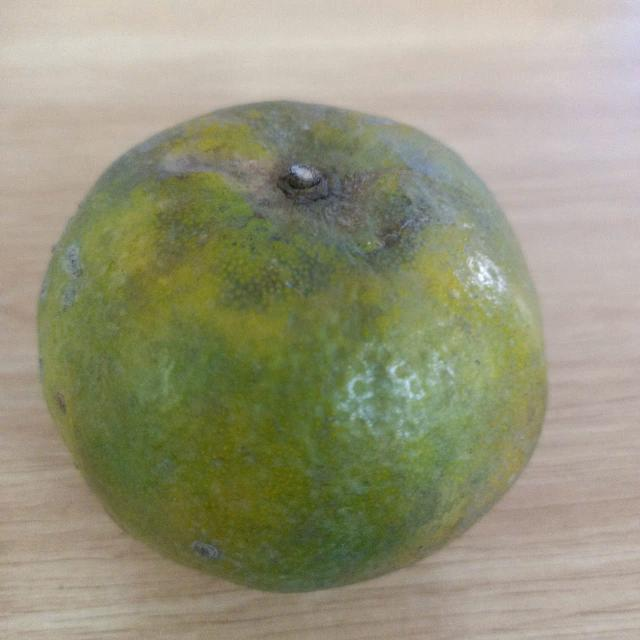Cam: (34, 93, 554, 597)
